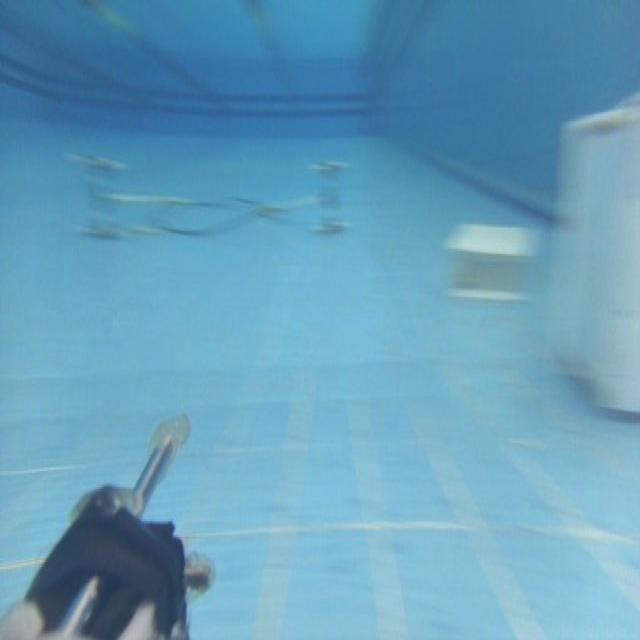Cube: (543, 90, 638, 418)
Cuboid: (443, 219, 542, 302)
